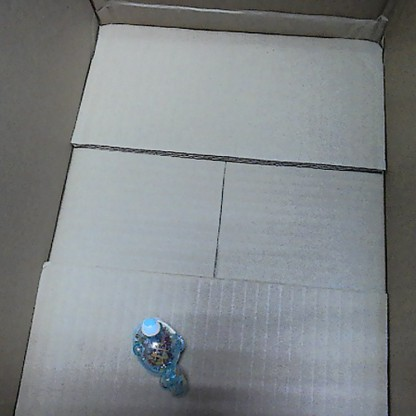bluefish: (127, 312, 191, 395)
